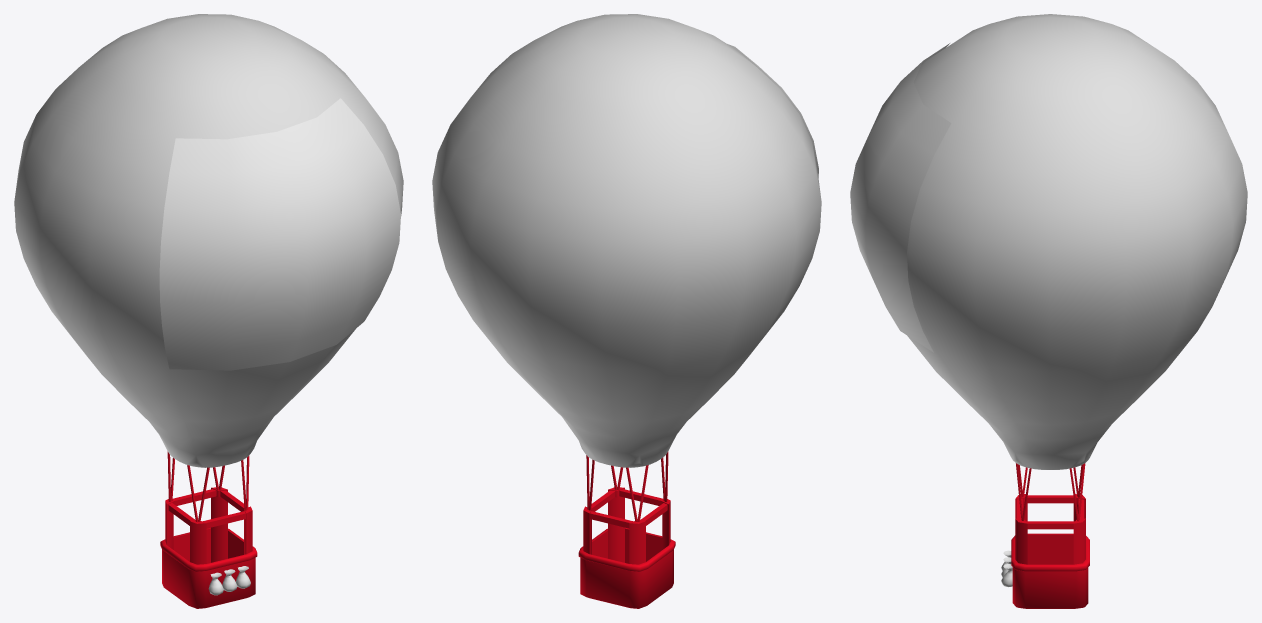
Rendered from LiM Air Balloon Styl.fbx.
3 renders of one model, left to right at view 1: azimuth 30°, elevation 25°; view 2: azimuth 150°, elevation 25°; view 3: azimuth 270°, elevation 25°, orthographic.
Parts seen in each view (by area): view 1: Cube.010; view 2: Cube.010; view 3: Cube.010.
Part boxes in pixels (x1,y1,x2,y2): Cube.010: [14, 14, 403, 608]; Cube.010: [432, 14, 821, 608]; Cube.010: [850, 14, 1247, 608].
Size of the model in its own units: 1002 by 1569 by 1010.
